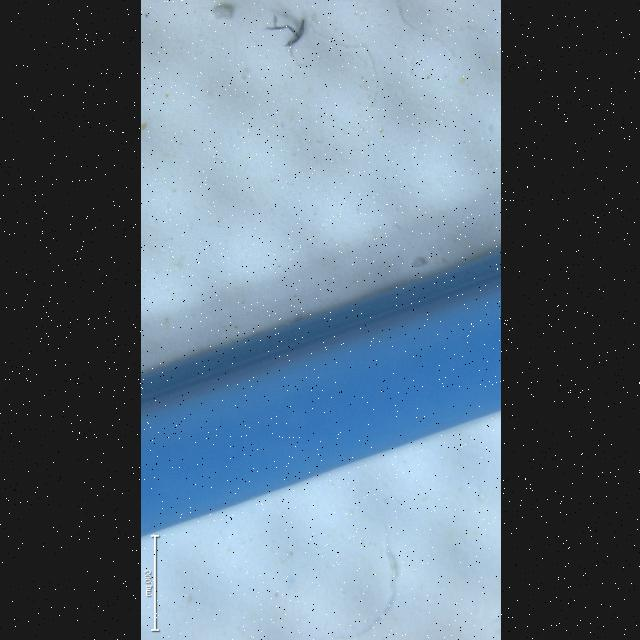Fibre: (310, 27, 378, 105), (264, 15, 303, 47)
Fragment: (211, 3, 232, 19), (410, 257, 425, 268)
